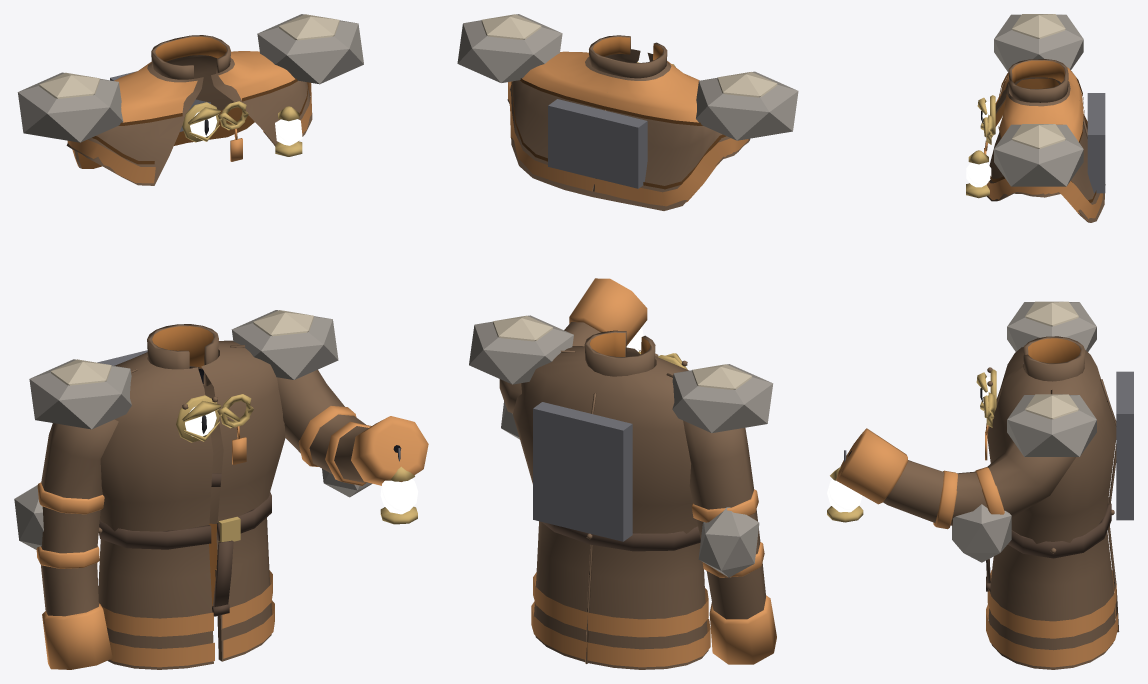
Rendered from coat-deep-coat.glb.
3 renders of one model, left to right at view 1: azimuth 30°, elevation 25°; view 2: azimuth 150°, elevation 25°; view 3: azimuth 270°, elevation 25°, orthographic. The views are drawn at different scales.
Visible parts, largest first — view 1: coat-deep-coat, coat-deep-coat_worn, sway_sleeve_r, sway_lamp, sway_belt; view 2: coat-deep-coat, coat-deep-coat_worn, sway_sleeve_r; view 3: coat-deep-coat, coat-deep-coat_worn, sway_lamp.
Part boxes in pixels (x1,y1,x2,y2): coat-deep-coat: (14,310,428,669); coat-deep-coat_worn: (17,14,363,185); sway_sleeve_r: (36,419,118,669); sway_lamp: (380,448,418,524); sway_belt: (212,540,233,616); coat-deep-coat: (469,278,773,669); coat-deep-coat_worn: (457,14,798,210); sway_sleeve_r: (683,420,776,664); coat-deep-coat: (836,301,1133,669); coat-deep-coat_worn: (966,14,1105,222); sway_lamp: (827,450,863,522).
Size of the model in its own units: 1.24 by 2.11 by 1.05.
